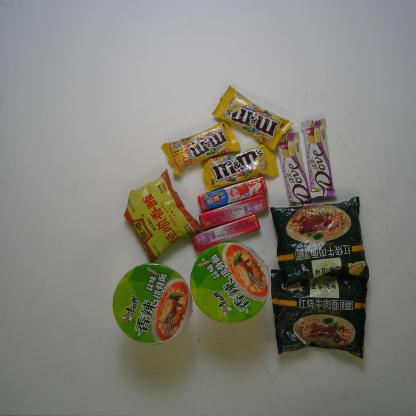Candy: (190, 213, 262, 253), (199, 193, 271, 230), (197, 176, 268, 212)
Chocolate: (210, 85, 294, 152), (160, 120, 242, 175), (200, 142, 279, 194), (276, 130, 315, 208), (300, 118, 336, 200)
Instant Noodles: (270, 268, 370, 360), (270, 196, 370, 287), (190, 242, 271, 324), (112, 263, 193, 345)
Seasoner: (124, 169, 203, 263)
